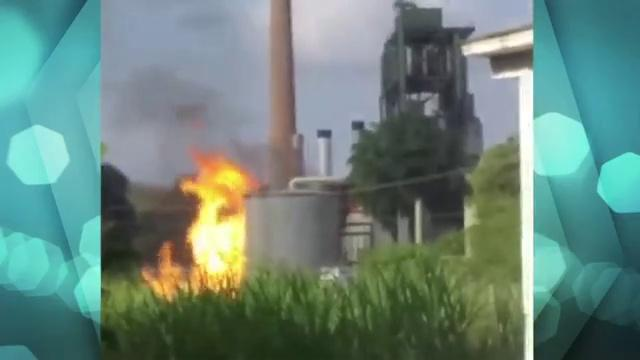fire: (194, 180, 246, 267)
